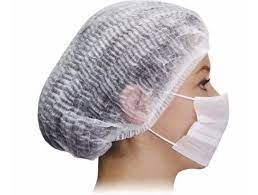with_mask_and_cap: (39, 1, 229, 173)
